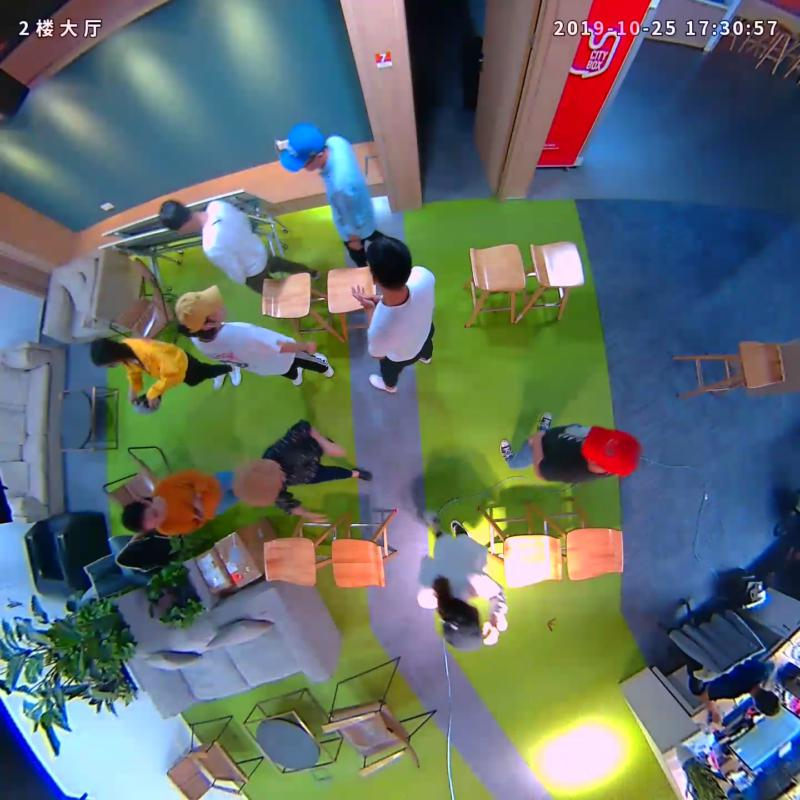head: (578, 425, 641, 478), (230, 457, 286, 510), (277, 122, 326, 173), (174, 285, 227, 332), (366, 236, 411, 291), (442, 603, 484, 651), (121, 496, 167, 532), (157, 198, 196, 234), (89, 338, 126, 369)
